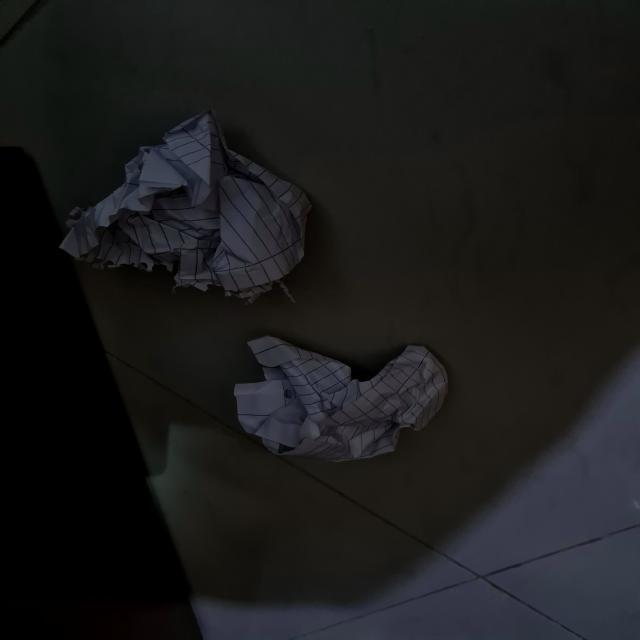Paper: (46, 144, 326, 315), (214, 346, 475, 466)
